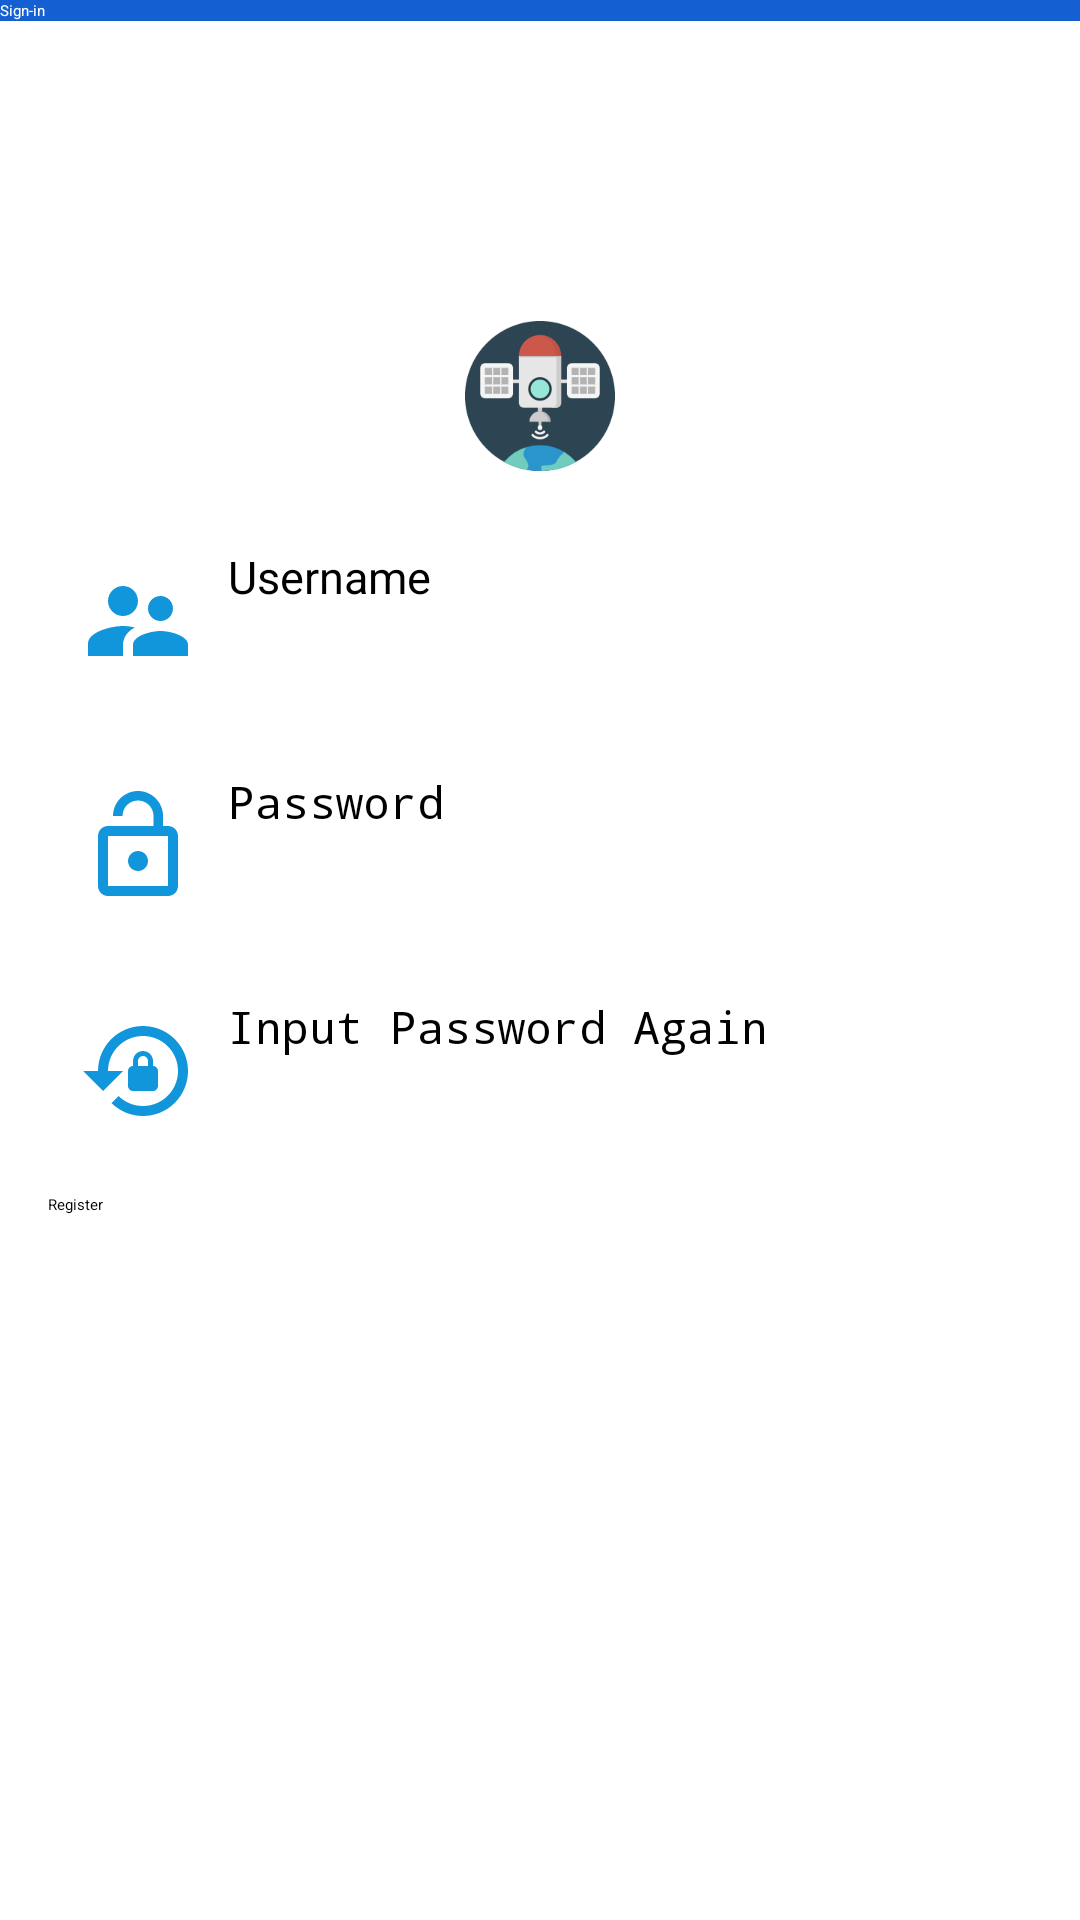

Named icons in this screenshot (1080x1920) and their bounding boxes, [left=x1, top=y1, right=x2, bottom=y2]:
lock open: [left=98, top=791, right=178, bottom=896]
lock reset: [left=83, top=1026, right=188, bottom=1116]
supervisor account: [left=88, top=586, right=188, bottom=656]
